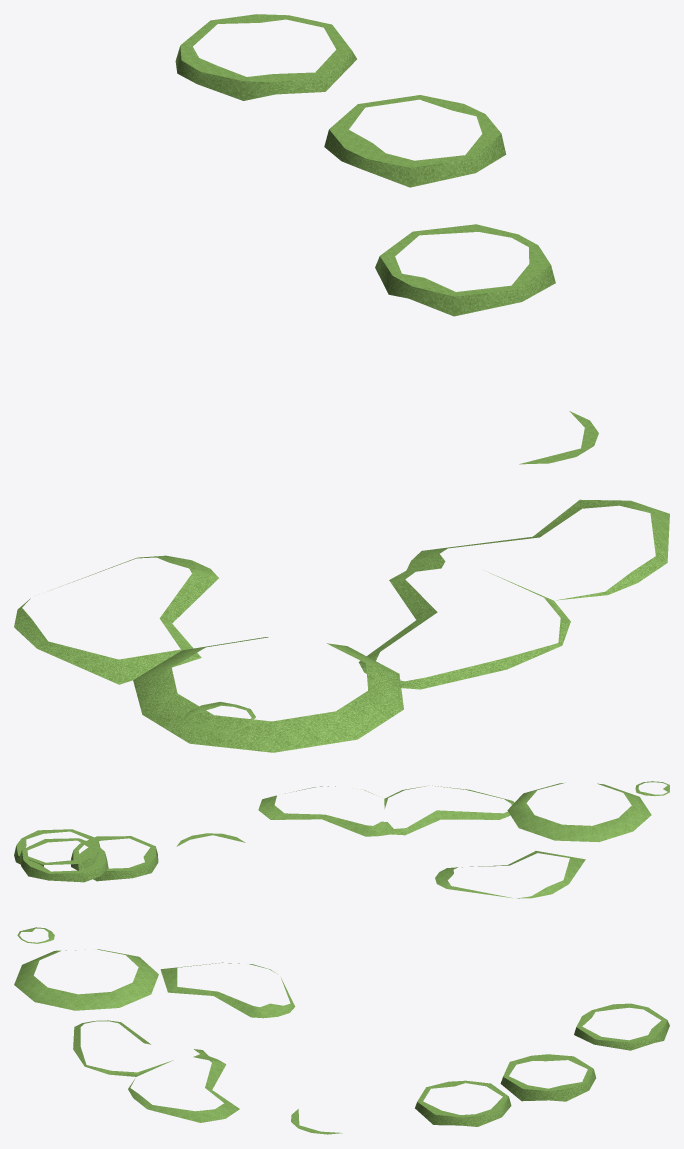
Rendered from kd_connection_world-outer_surface_19_2.glb.
3 renders of one model, top to bottom at view 1: azimuth 30°, elevation 25°; view 2: azimuth 150°, elevation 25°; view 3: azimuth 270°, elevation 25°, orthographic. The views are drawn at different scales.
Parts seen in each view (by area): view 1: kd_connection_world-outer_surface_19_2; view 2: kd_connection_world-outer_surface_19_2; view 3: kd_connection_world-outer_surface_19_2.
Part boxes in pixels (<box>): kd_connection_world-outer_surface_19_2: <box>14,14,669,752</box>; kd_connection_world-outer_surface_19_2: <box>14,781,669,898</box>; kd_connection_world-outer_surface_19_2: <box>14,927,669,1134</box>.
Bounding box in the file's own units: 515 × 116 × 701.
Materials: 1 (1 with a texture image).
